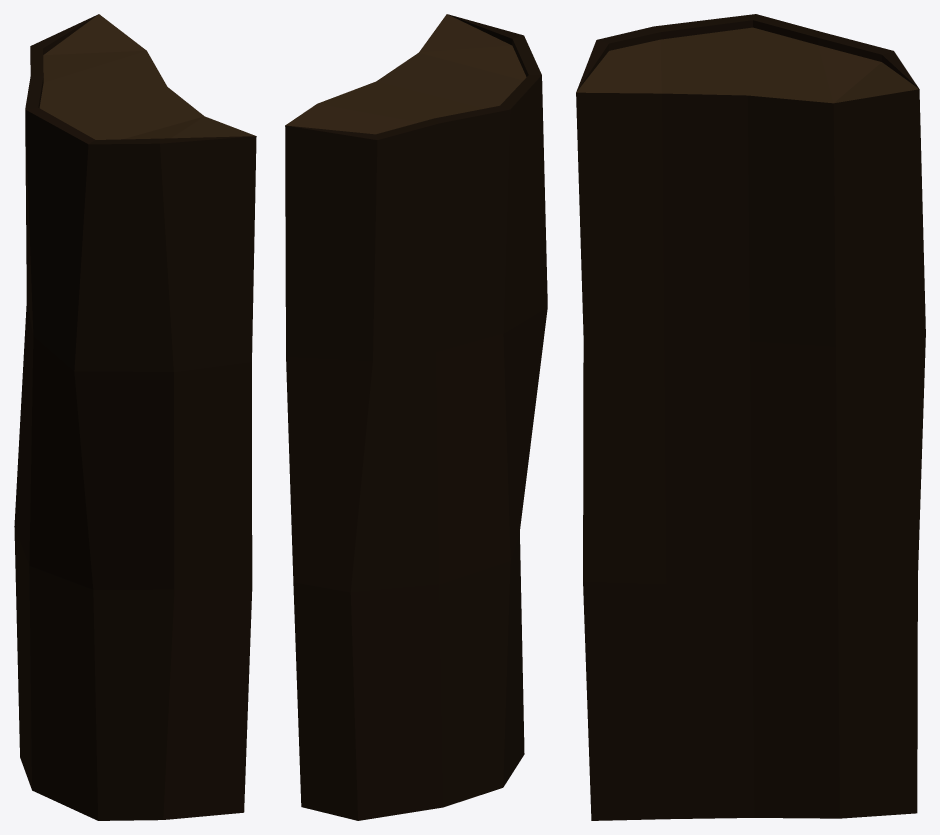
Rendered from CutLog02_FBX.fbx.
3 views of the same model, side by side, from view 1: azimuth 30°, elevation 25°; view 2: azimuth 150°, elevation 25°; view 3: azimuth 270°, elevation 25° (orthographic). The views are drawn at different scales.
Parts seen in each view (by area): view 1: CUT LOG 2; view 2: CUT LOG 2; view 3: CUT LOG 2.
Boxes of the visible parts, left/top/right/bottom form: CUT LOG 2: left=14, top=14, right=256, bottom=820; CUT LOG 2: left=285, top=14, right=547, bottom=820; CUT LOG 2: left=576, top=14, right=925, bottom=820.
Bounding box in the file's own units: 14.02 × 58.79 × 25.07.
